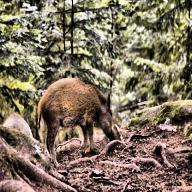boar: (26, 77, 131, 158)
